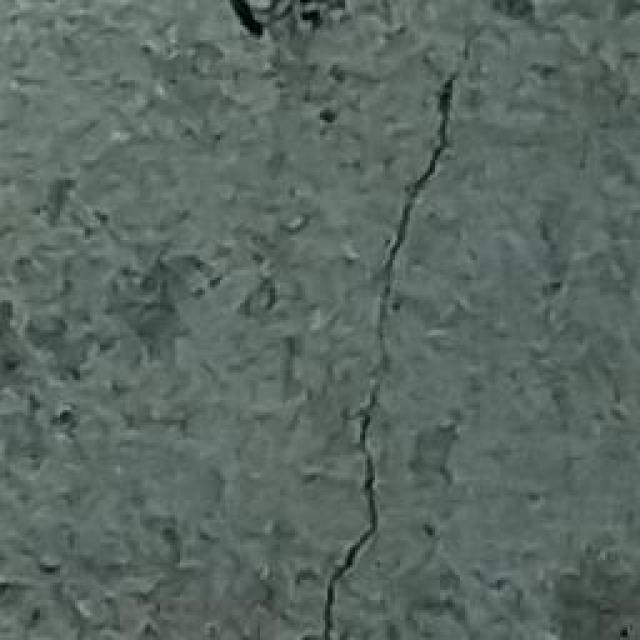Diagonal: (314, 0, 487, 639)
